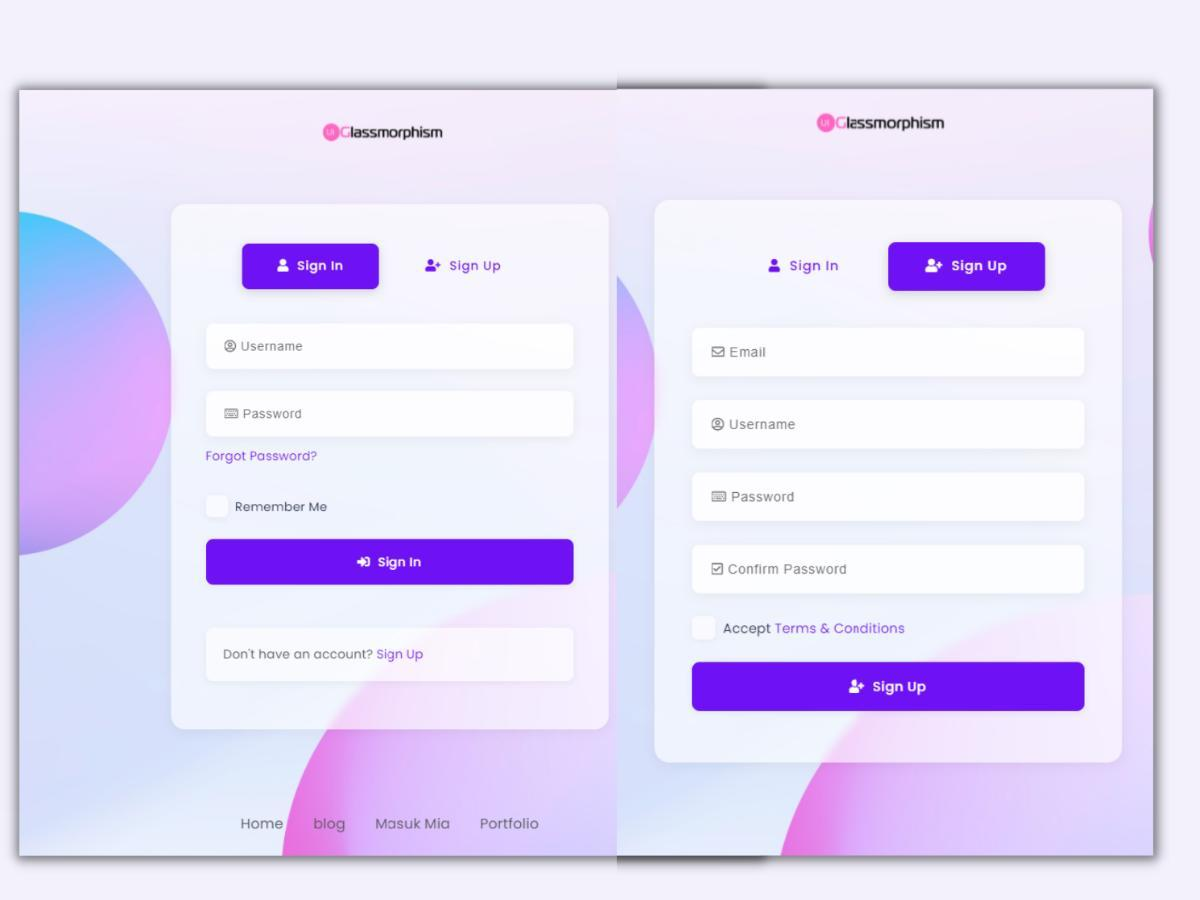button: (205, 627, 577, 684), (692, 662, 1086, 715), (207, 539, 575, 587), (888, 242, 1048, 293), (241, 243, 381, 290)
checkbox: (691, 617, 720, 641), (207, 494, 229, 521)
icon: (724, 621, 908, 639), (422, 258, 444, 275), (768, 257, 787, 276)
input: (691, 327, 1086, 379), (693, 544, 1088, 595), (692, 473, 1086, 524), (692, 401, 1087, 448), (207, 389, 575, 437), (206, 324, 574, 371)
label: (235, 498, 333, 517)
